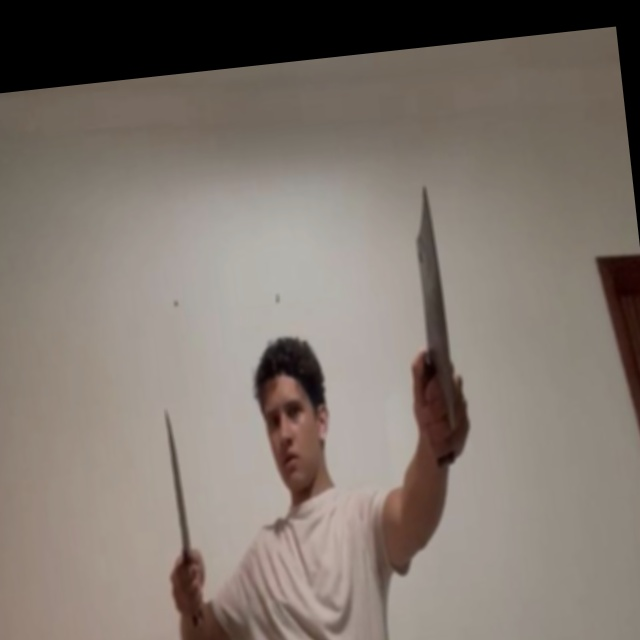Sharp-Object: (410, 183, 457, 397), (165, 409, 191, 557)
